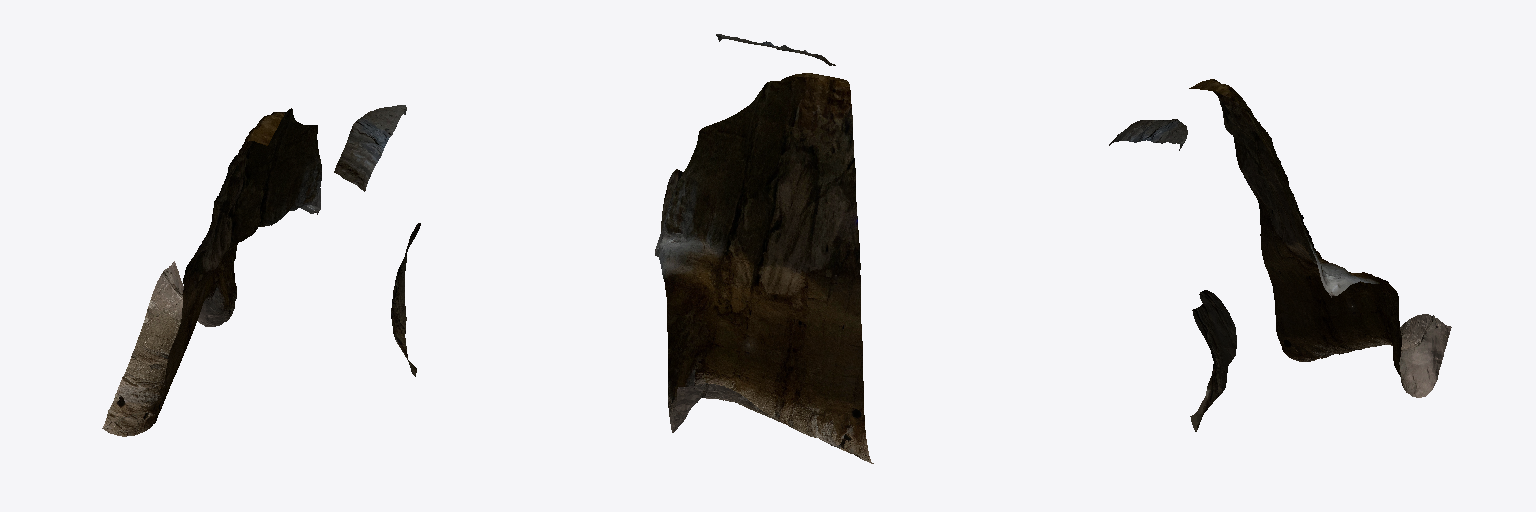
3 views of the same model, side by side, from view 1: azimuth 30°, elevation 25°; view 2: azimuth 150°, elevation 25°; view 3: azimuth 270°, elevation 25° (orthographic).
Parts seen in each view (by area): view 1: texture_0; view 2: texture_0; view 3: texture_0.
Part boxes in pixels (bbox=[...]): texture_0: bbox=[102, 105, 420, 436]; texture_0: bbox=[655, 34, 873, 463]; texture_0: bbox=[1109, 79, 1451, 431].
Bounding box in the file's own units: 0.3798 × 0.4566 × 0.436.
1 materials, 1 textured.